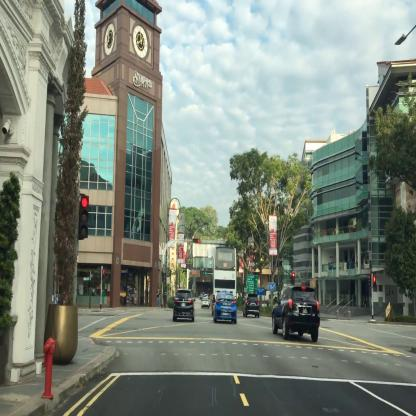red_traffic_light: (79, 192, 87, 236), (193, 238, 199, 243), (292, 272, 294, 282)
